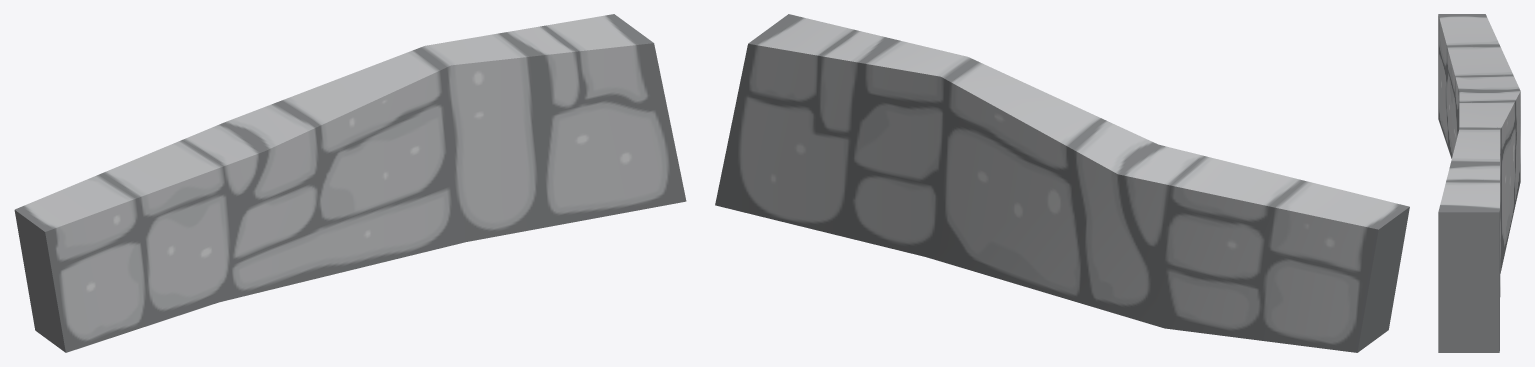
The model's file is muro01.FBX.
3 renders of one model, left to right at view 1: azimuth 30°, elevation 25°; view 2: azimuth 150°, elevation 25°; view 3: azimuth 270°, elevation 25°, orthographic. The views are drawn at different scales.
Parts seen in each view (by area): view 1: muro01; view 2: muro01; view 3: muro01.
Boxes of the visible parts, x1,y1,x2,y2 form: muro01: [14, 14, 686, 352]; muro01: [715, 14, 1409, 352]; muro01: [1438, 14, 1520, 352].
Bounding box in the file's own units: 186 × 50 × 26.78.
